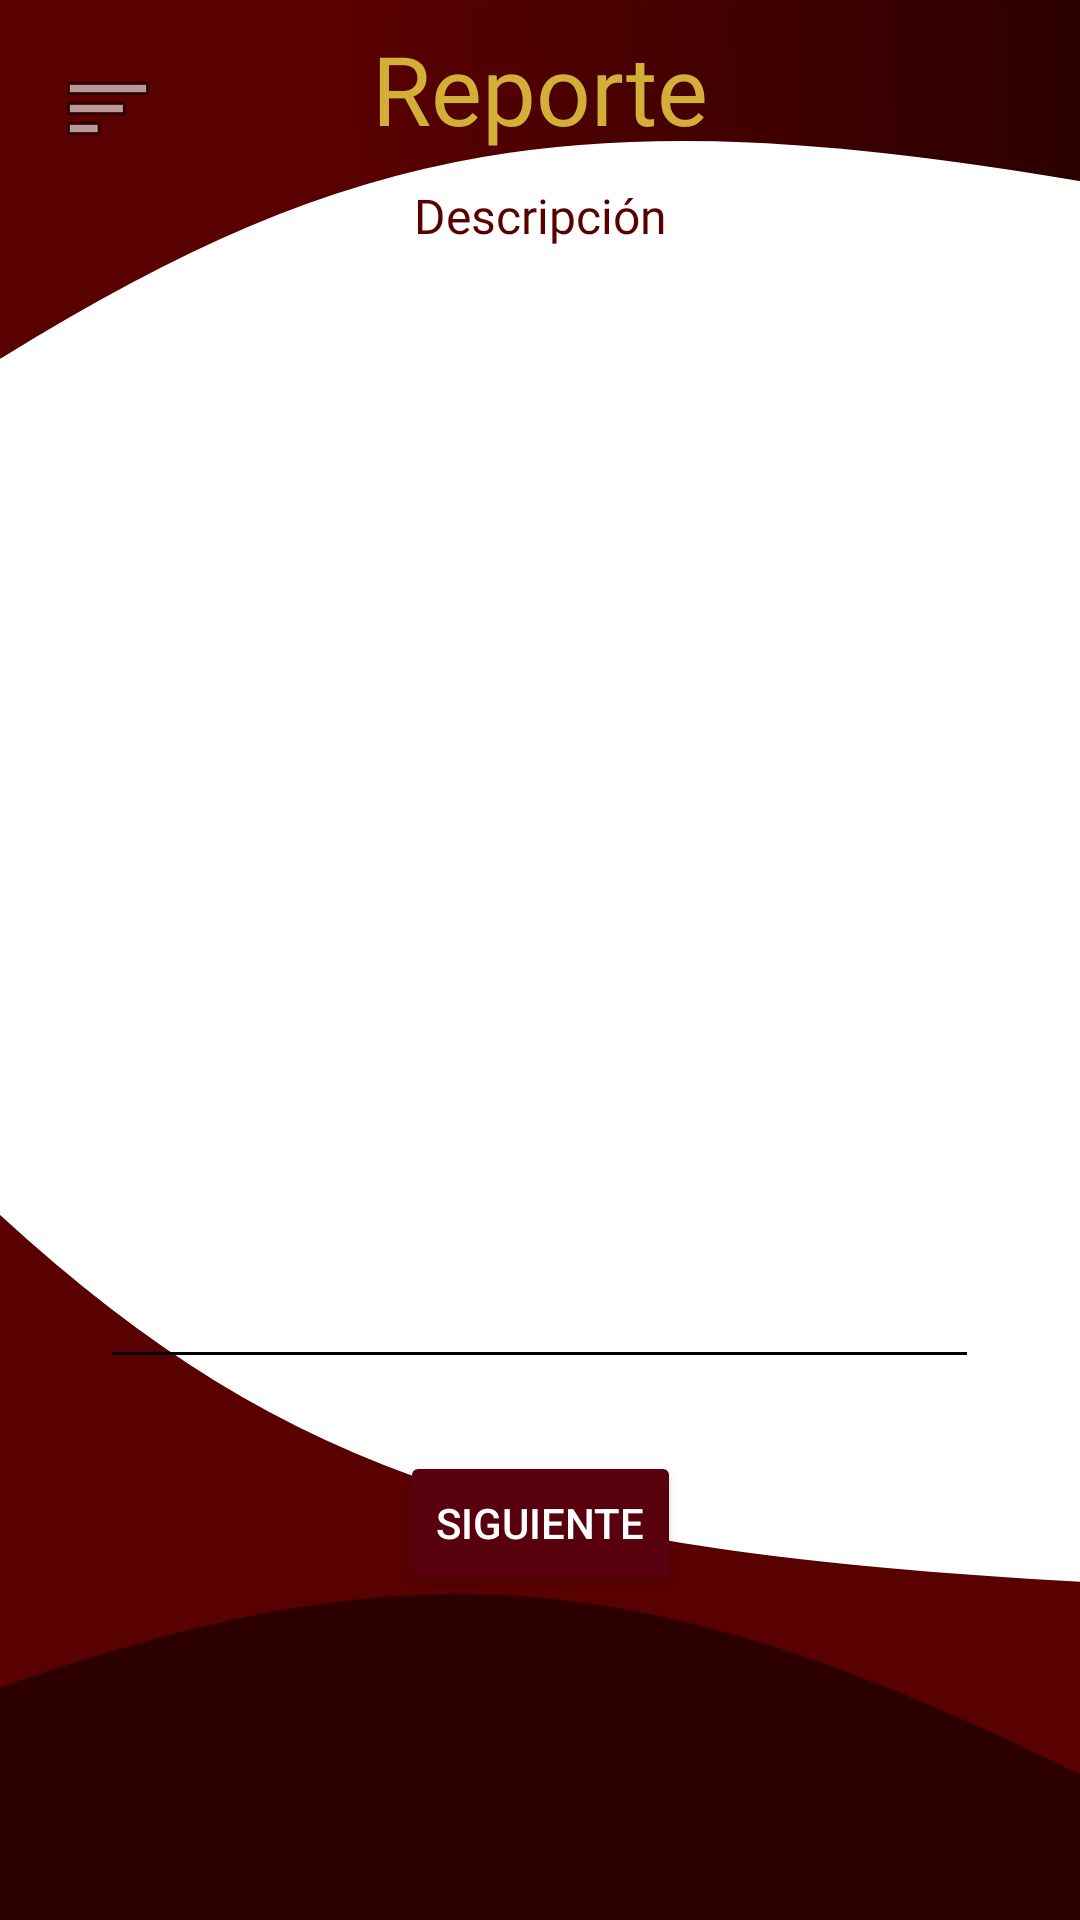

Where icons sit on this 1080x1920 app screen, as (x1, y1, x2, y2):
Menú: (67, 82, 149, 135)
